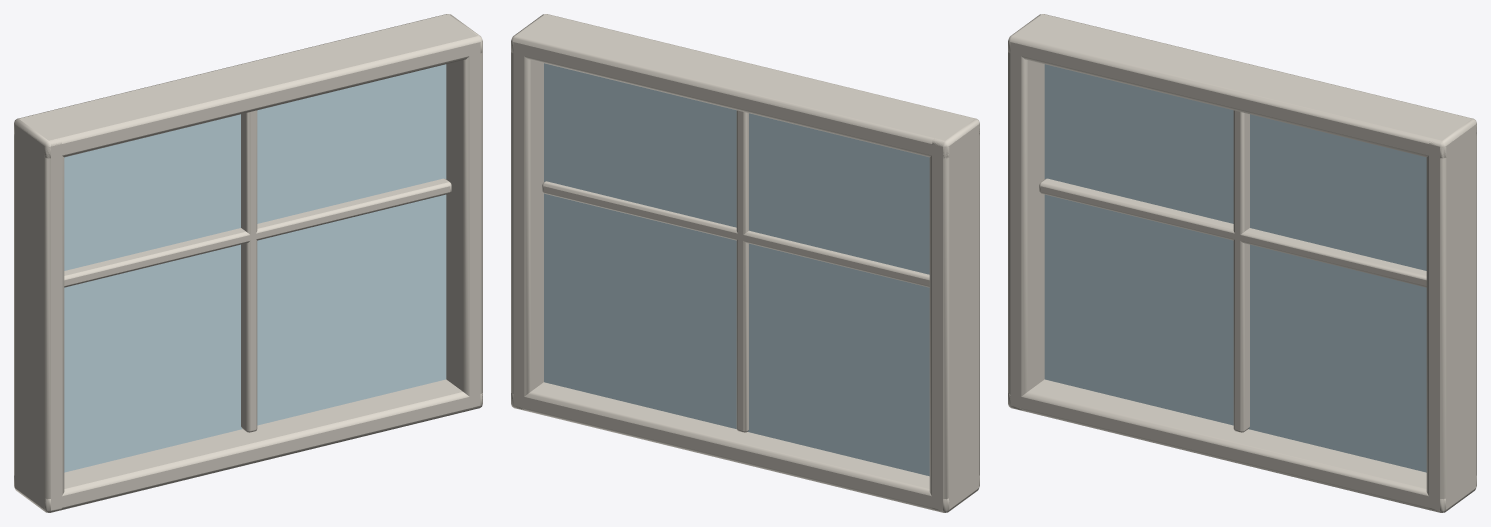
File: window_frame.glb
3 views of the same model, side by side, from view 1: azimuth 30°, elevation 25°; view 2: azimuth 150°, elevation 25°; view 3: azimuth 330°, elevation 25° (orthographic).
Visible parts, largest first — view 1: window_glass, window_frame; view 2: window_glass, window_frame; view 3: window_glass, window_frame.
Boxes of the visible parts, x1,y1,x2,y2 form: window_glass: [64, 64, 446, 472]; window_frame: [14, 14, 482, 512]; window_glass: [544, 63, 929, 476]; window_frame: [511, 14, 979, 512]; window_glass: [1044, 64, 1426, 472]; window_frame: [1008, 14, 1476, 512].
Bounding box in the file's own units: 1.6 × 1.3 × 0.22.
